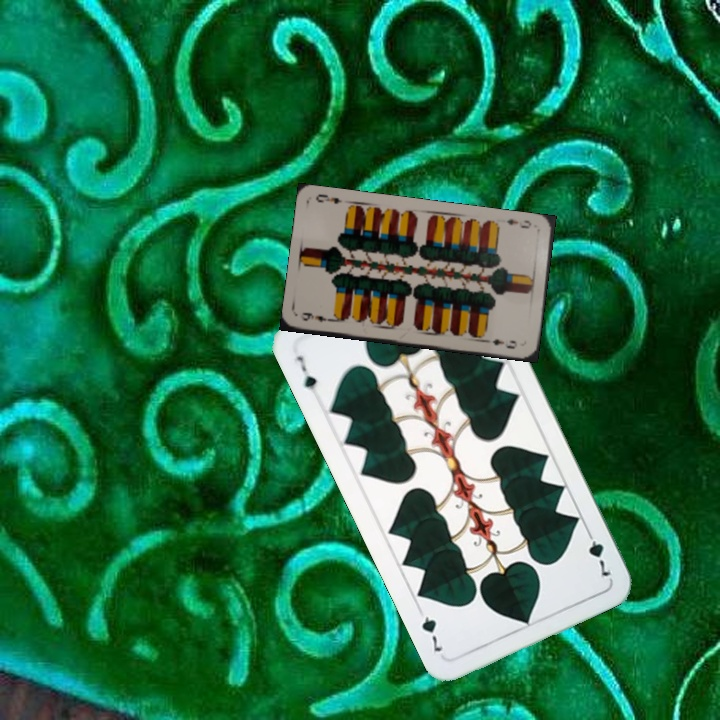E9: (296, 308, 336, 325), (503, 215, 534, 231)
G7: (582, 525, 614, 580), (292, 351, 320, 393)
